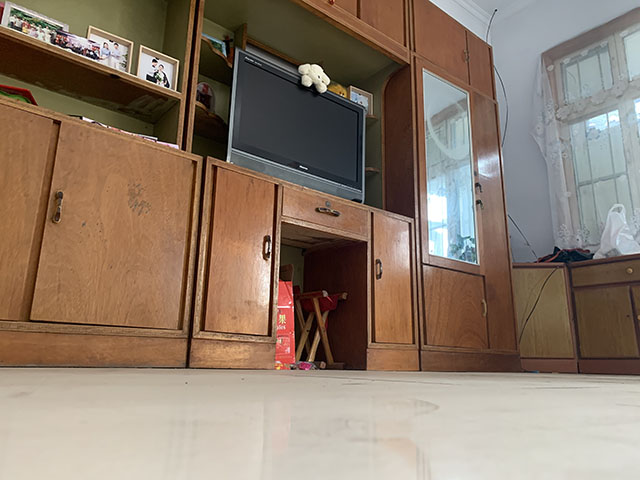cabinet: (1, 101, 519, 373), (513, 252, 640, 376)
stool: (293, 290, 350, 371)
